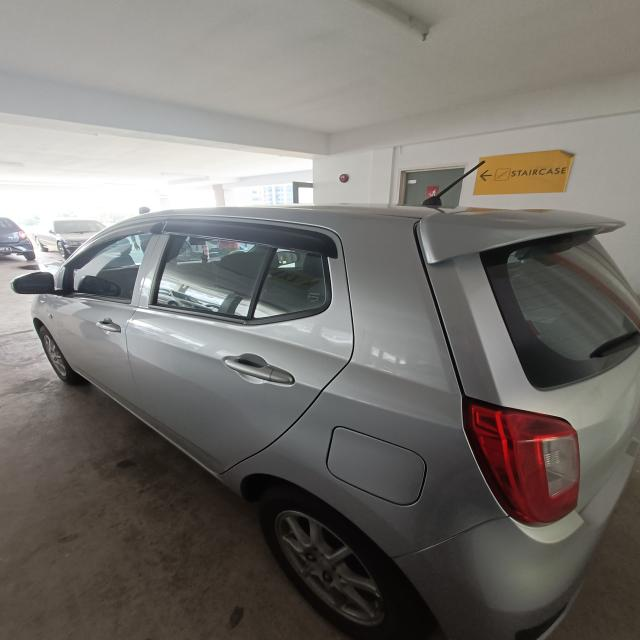PeroduaAxia: (10, 192, 639, 638)
